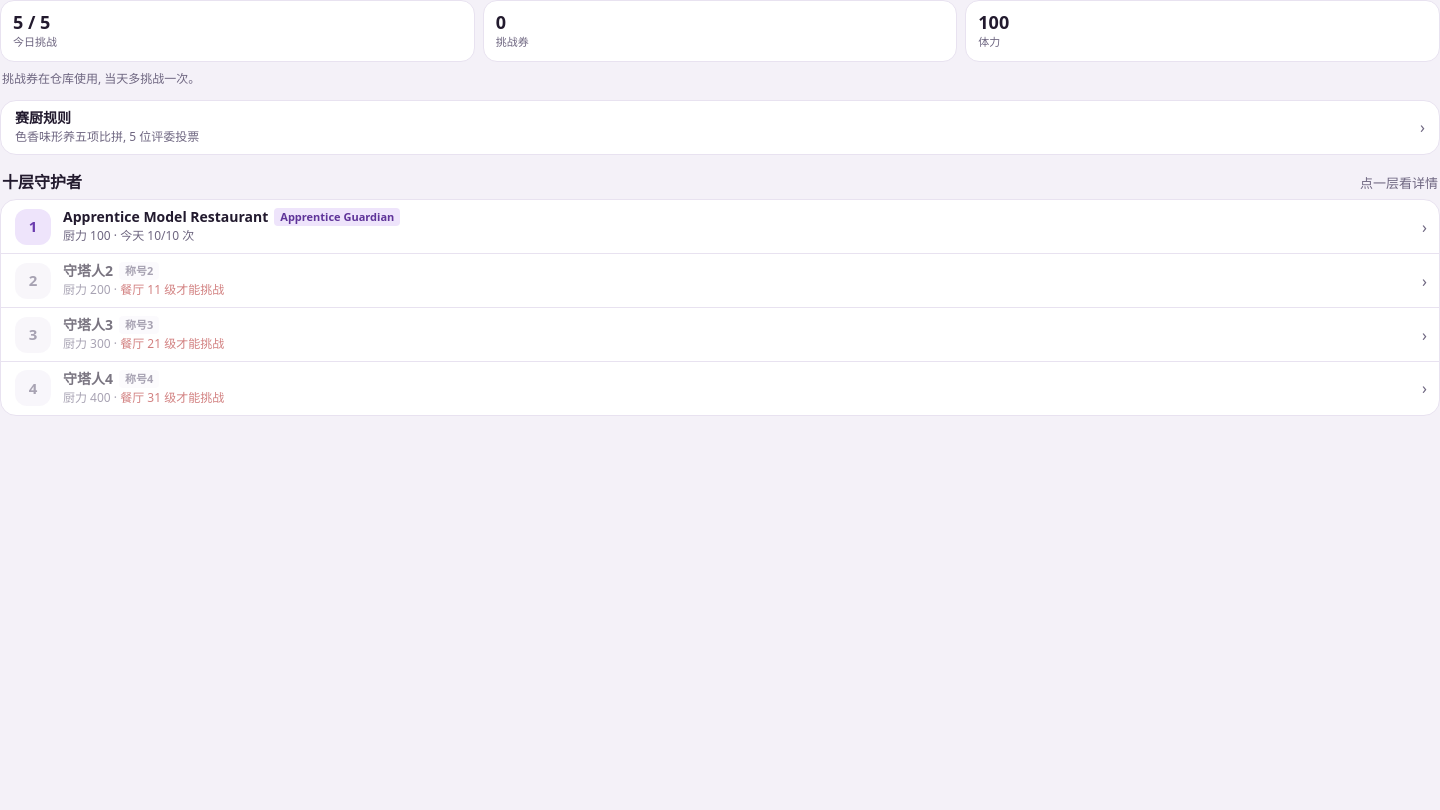
it: FloorPanel › 守塔人店名、称号、台词按目录取当前语言（问题记录 272）
Click the button with test id "floor-open-1": (33, 227) [1,200,1439,253]
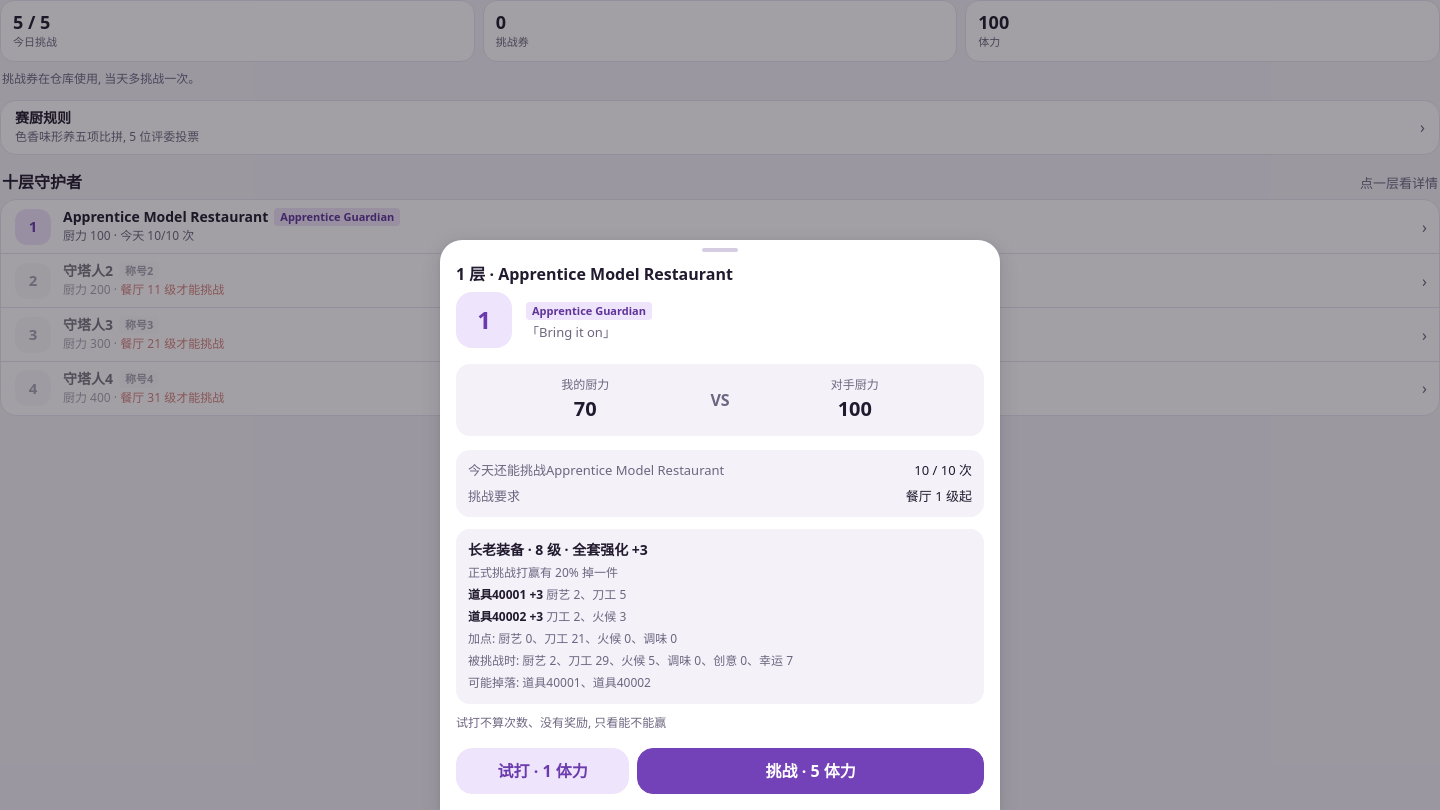
Expected: the dialog with class "dt-sheet" shows "Apprentice Model Restaurant", [456,263,733,285]
Expected: the dialog with class "dt-sheet" shows "Apprentice Guardian", [532,303,646,318]
Expected: the dialog with class "dt-sheet" shows "Bring it on", [526,323,616,341]
